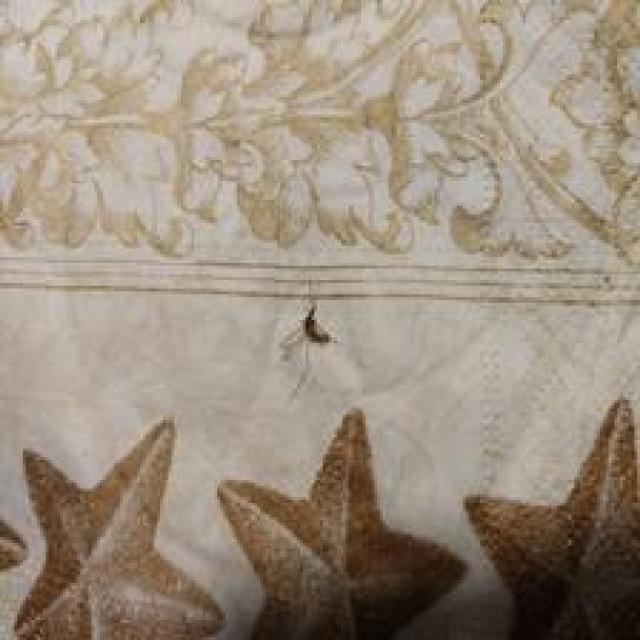Culex: (8, 414, 225, 640)
